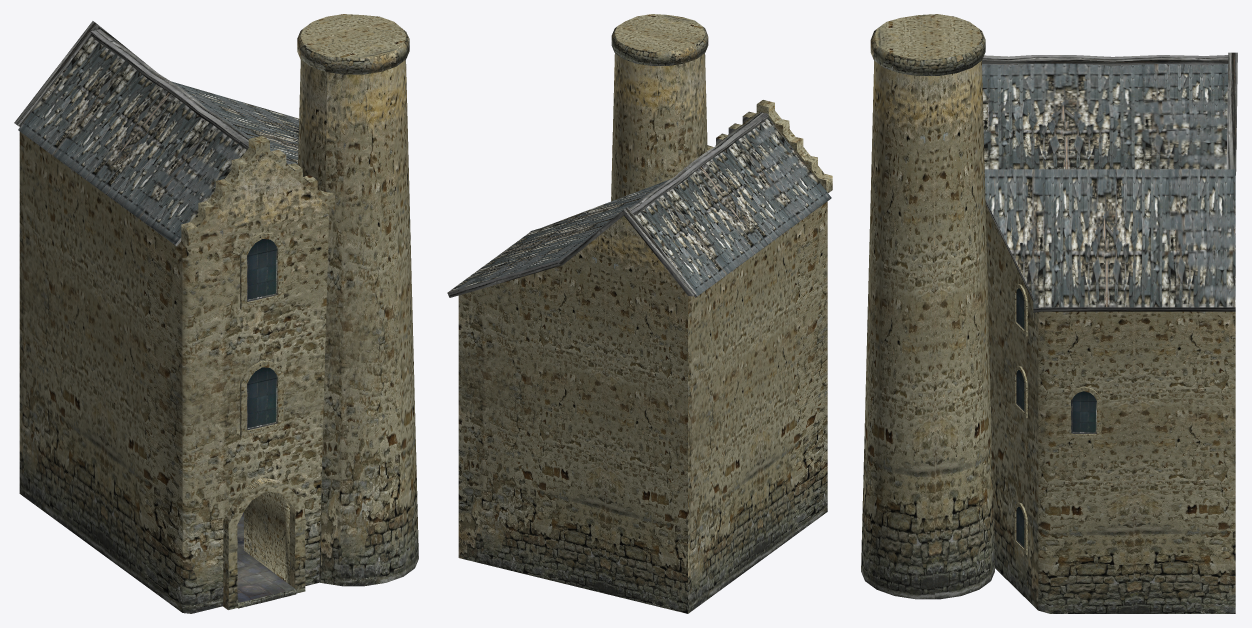
File: medhouse15.fbx
3 views of the same model, side by side, from view 1: azimuth 30°, elevation 25°; view 2: azimuth 150°, elevation 25°; view 3: azimuth 270°, elevation 25° (orthographic). The views are drawn at different scales.
Visible parts, largest first — view 1: medhouse15, medhouse15_interior; view 2: medhouse15; view 3: medhouse15.
Part boxes in pixels (x1,y1,x2,y2): medhouse15: (14,14,418,613); medhouse15_interior: (237,491,294,602); medhouse15: (447,14,832,613); medhouse15: (861,14,1237,613).
Bounding box in the file's own units: 692 × 1199 × 765.
